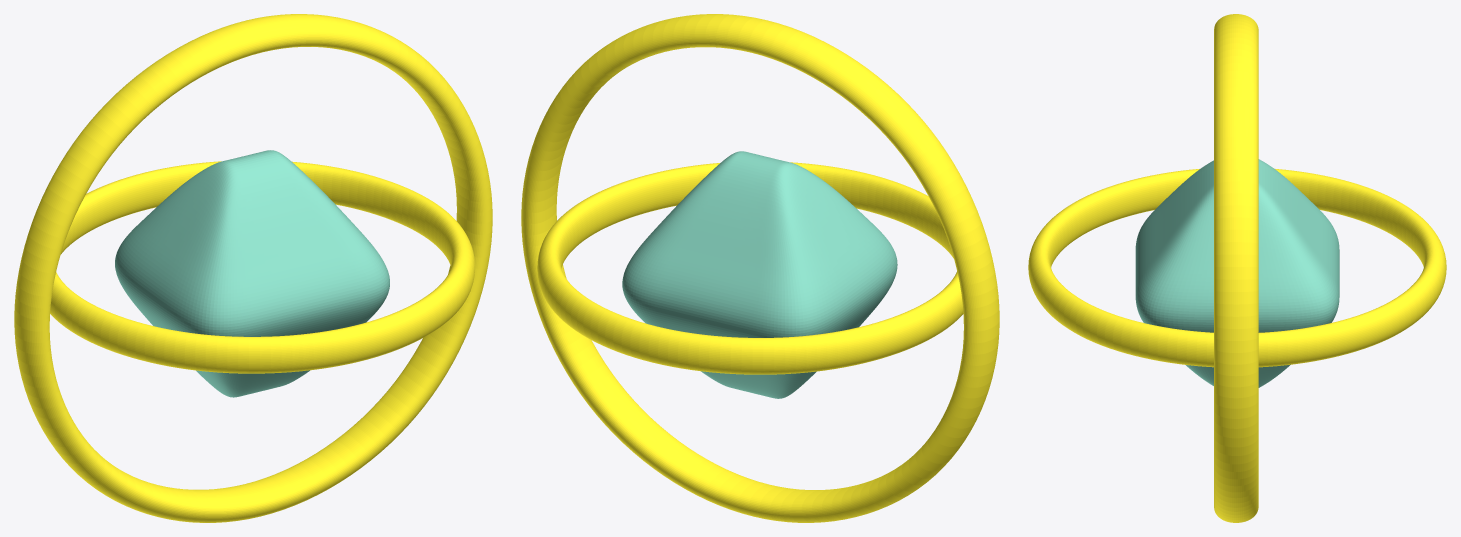
Rendered from ICONOPESO.fbx.
3 views of the same model, side by side, from view 1: azimuth 30°, elevation 25°; view 2: azimuth 150°, elevation 25°; view 3: azimuth 270°, elevation 25° (orthographic). The views are drawn at different scales.
Parts seen in each view (by area): view 1: Peso, Peso.001; view 2: Peso, Peso.001; view 3: Peso, Peso.001.
Part boxes in pixels (x1,y1,x2,y2): Peso: (14,14,492,522); Peso.001: (115,150,389,397); Peso: (521,14,999,522); Peso.001: (622,151,897,398); Peso: (1028,14,1446,522); Peso.001: (1135,159,1339,387).
Size of the model in its own units: 16.83 by 16.83 by 13.81.
